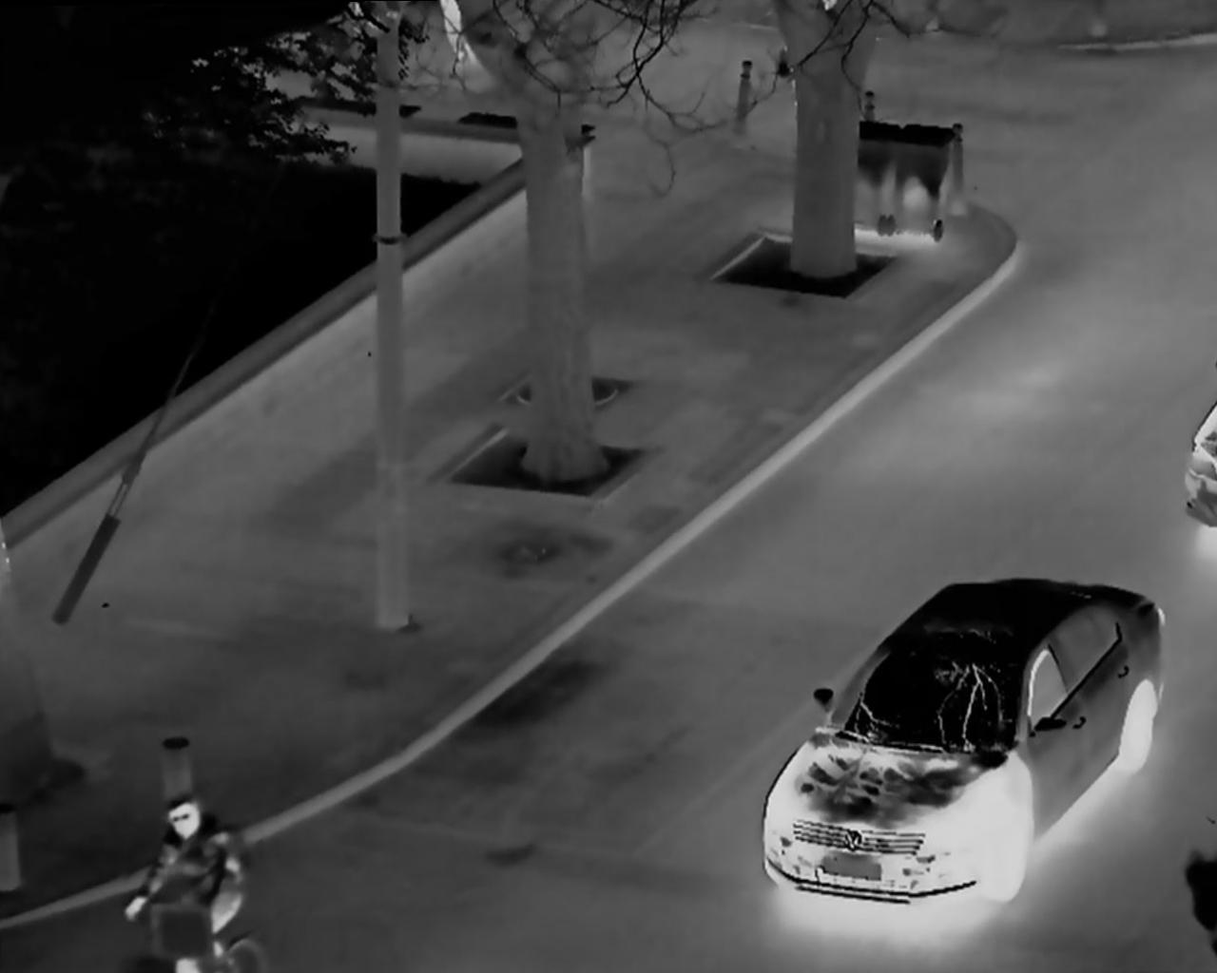person: (125, 788, 270, 973)
